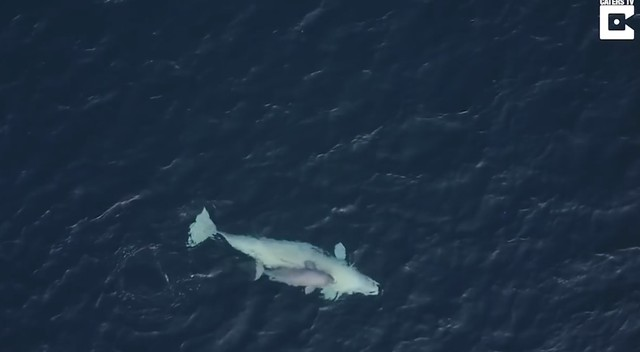whale: (180, 203, 388, 307), (249, 259, 338, 296)
